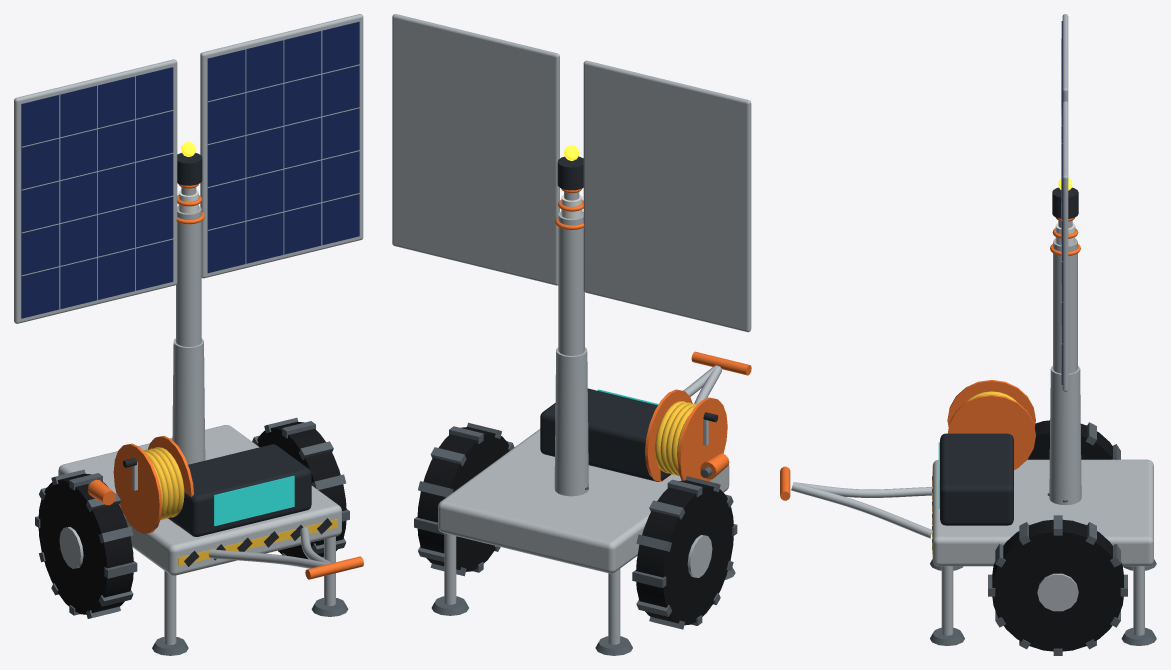
Rendered from solar-mast-cart.glb.
The picture shows the model from 3 angles, left to right: view 1: azimuth 30°, elevation 25°; view 2: azimuth 150°, elevation 25°; view 3: azimuth 270°, elevation 25°; orthographic projection. The views are drawn at different scales.
Visible parts, largest first — view 1: wing_r-solar-cell, wing_l-solar-cell, solar-mast-cart-panel-grey, wheel_l-rubber, solar-mast-cart-dark-polymer, wing_r-aluminium, wing_l-aluminium, reel_drum-safety-orange, solar-mast-cart-aluminium, mast_1-aluminium, wheel_r-rubber, screen (+10 smaller); view 2: wing_l-aluminium, wing_r-aluminium, solar-mast-cart-panel-grey, wheel_l-rubber, solar-mast-cart-dark-polymer, wheel_r-rubber, solar-mast-cart-aluminium, reel_drum-safety-orange, mast_1-aluminium, wheel_l-dark-steel, wheel_r-dark-steel, reel_drum-hazard-yellow (+8 smaller); view 3: solar-mast-cart-panel-grey, wheel_r-rubber, solar-mast-cart-dark-polymer, reel_drum-safety-orange, solar-mast-cart-aluminium, tow_bar-aluminium, mast_1-aluminium, wing_r-aluminium, wheel_r-dark-steel, wheel_l-rubber, wheel_r-aluminium, leg_4-aluminium (+4 smaller).
Part boxes in pixels (box(x1,y1,x2,y2)): wing_r-solar-cell: box(207, 21, 359, 273); wing_l-solar-cell: box(21, 67, 173, 318); solar-mast-cart-panel-grey: box(58, 425, 341, 575); wheel_l-rubber: box(38, 473, 133, 614); solar-mast-cart-dark-polymer: box(168, 444, 332, 566); wing_r-aluminium: box(200, 14, 363, 278); wing_l-aluminium: box(14, 59, 177, 323); reel_drum-safety-orange: box(113, 436, 193, 533); solar-mast-cart-aluminium: box(172, 338, 205, 464); mast_1-aluminium: box(176, 206, 201, 346); wheel_r-rubber: box(257, 421, 346, 559); screen: box(214, 475, 294, 525); wing_l-aluminium: box(583, 60, 751, 332); wing_r-aluminium: box(392, 14, 559, 285); solar-mast-cart-panel-grey: box(438, 429, 729, 573); wheel_l-rubber: box(636, 480, 733, 625); solar-mast-cart-dark-polymer: box(540, 388, 670, 481); wheel_r-rubber: box(417, 427, 509, 571); solar-mast-cart-aluminium: box(554, 347, 588, 496); reel_drum-safety-orange: box(645, 389, 727, 481); mast_1-aluminium: box(558, 211, 584, 355); wheel_l-dark-steel: box(632, 476, 737, 629); wheel_r-dark-steel: box(414, 422, 514, 576); reel_drum-hazard-yellow: box(655, 401, 696, 475); solar-mast-cart-panel-grey: box(932, 459, 1153, 566); wheel_r-rubber: box(992, 519, 1123, 651); solar-mast-cart-dark-polymer: box(932, 433, 1013, 549); reel_drum-safety-orange: box(947, 380, 1035, 469); solar-mast-cart-aluminium: box(1049, 366, 1081, 505); tow_bar-aluminium: box(791, 482, 932, 538); mast_1-aluminium: box(1053, 239, 1077, 373); wing_r-aluminium: box(1061, 101, 1068, 391); wheel_r-dark-steel: box(988, 515, 1127, 655); wheel_l-rubber: box(1027, 420, 1112, 459); wheel_r-aluminium: box(1037, 573, 1078, 611); leg_4-aluminium: box(941, 566, 953, 635).
Bounding box in the file's own units: 2.62 × 3.79 × 2.55.
